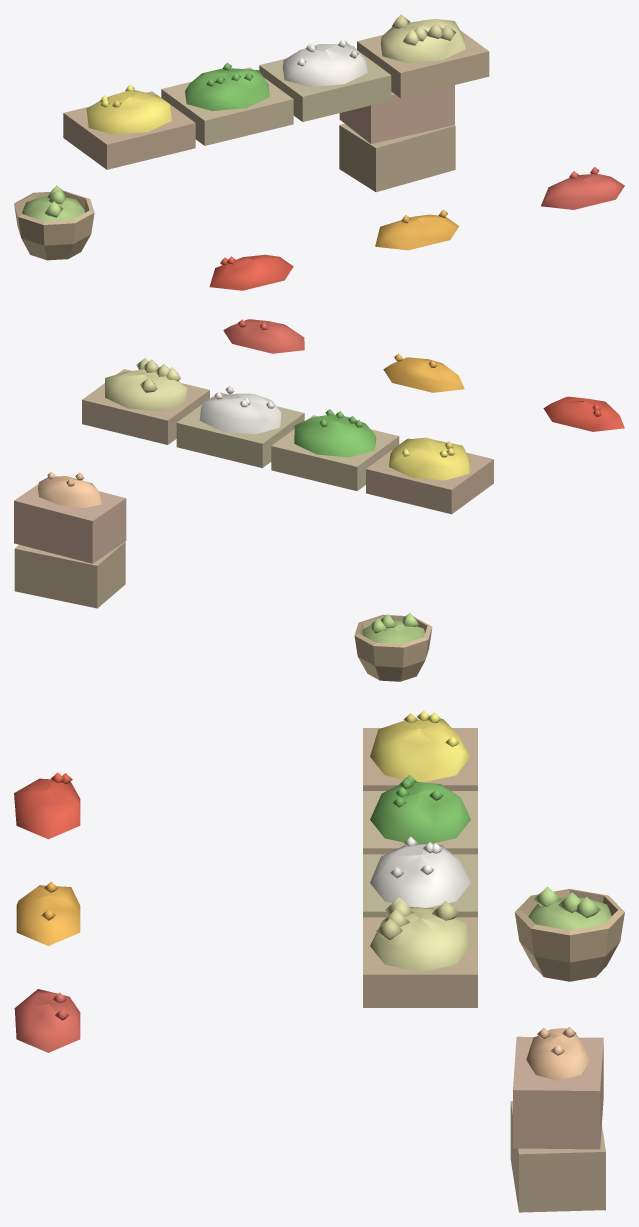
The model's file is SM_BM_BP_StallGoods_C.glb.
3 views of the same model, one above another, from view 1: azimuth 30°, elevation 25°; view 2: azimuth 150°, elevation 25°; view 3: azimuth 270°, elevation 25° (orthographic). The views are drawn at different scales.
Parts seen in each view (by area): view 1: SM_BM_BP_StallGoods_C; view 2: SM_BM_BP_StallGoods_C; view 3: SM_BM_BP_StallGoods_C.
Boxes of the visible parts, x1,y1,x2,y2 form: SM_BM_BP_StallGoods_C: [14, 14, 624, 290]; SM_BM_BP_StallGoods_C: [14, 319, 624, 681]; SM_BM_BP_StallGoods_C: [14, 710, 624, 1212].
Size of the model in its own units: 2.82 by 1.25 by 2.66.
